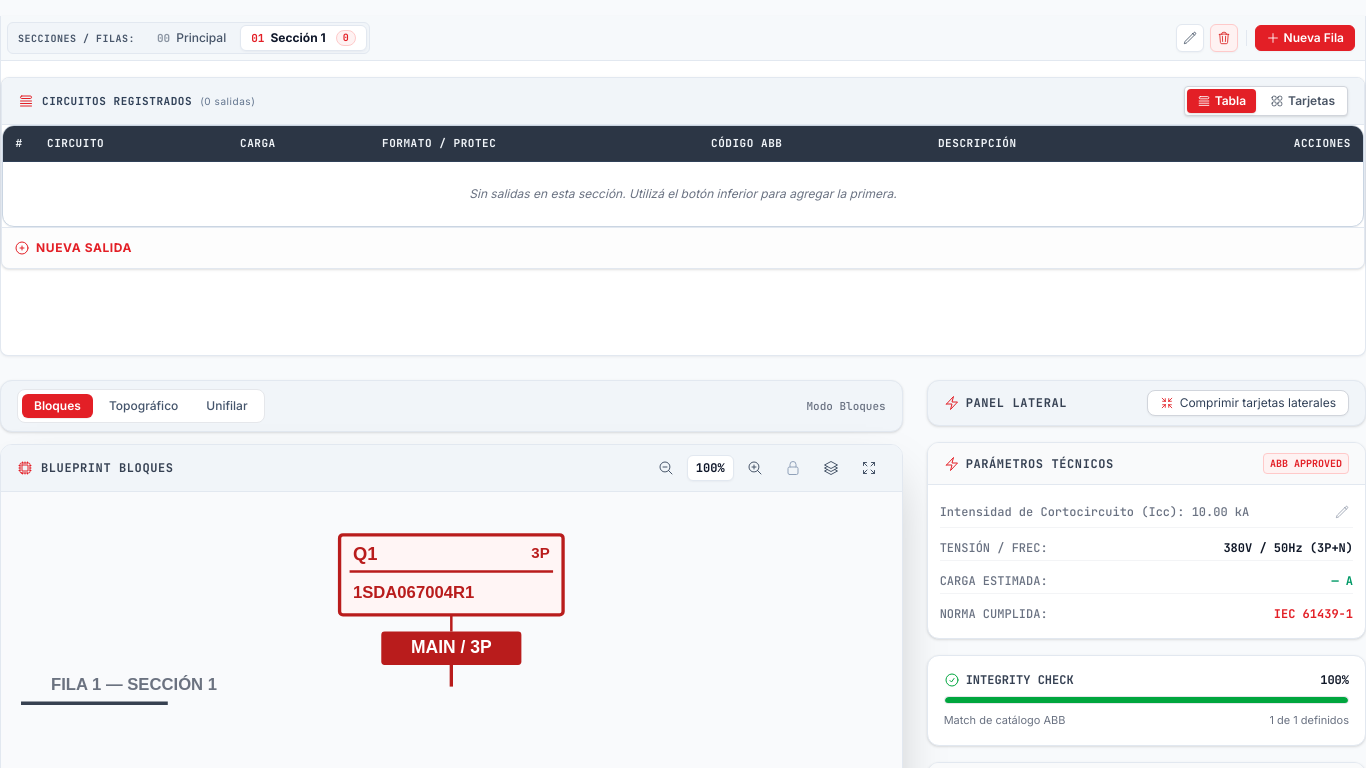
DetalleTablero › edits nivel de falla via modal and reports the change upward
This screenshot has width=1366, height=768.
Expected: the tab "01 Sección 1 0" is shown, [240,25,367,51]
Step 1. Click the button named "editar intensidad de cortocircuito" → [1342, 512], box [1331,501,1353,523]
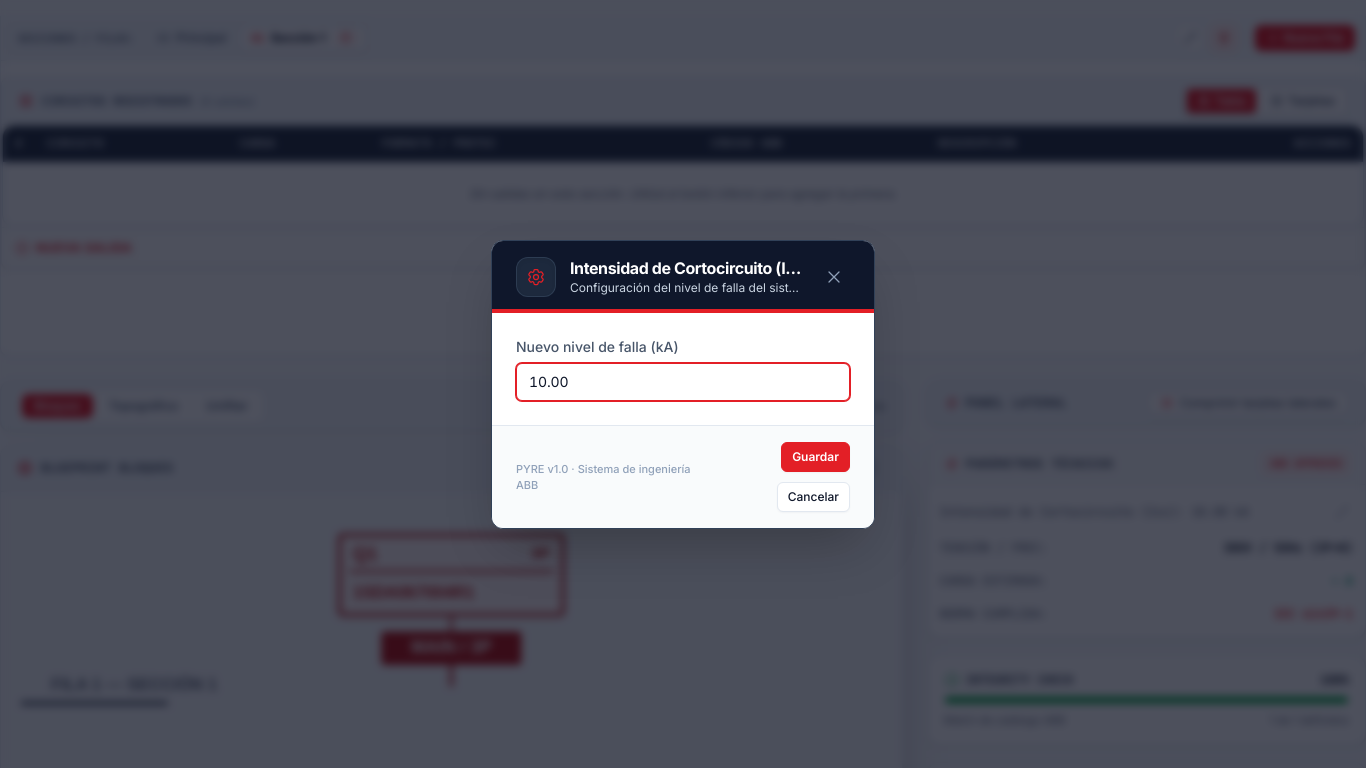
Result: the dialog is shown at [491,240,875,528]
Step 2. Replace the text in the field labelled "Nuevo nivel de falla (kA)" with "16" → [683, 382], box [516,362,850,400]
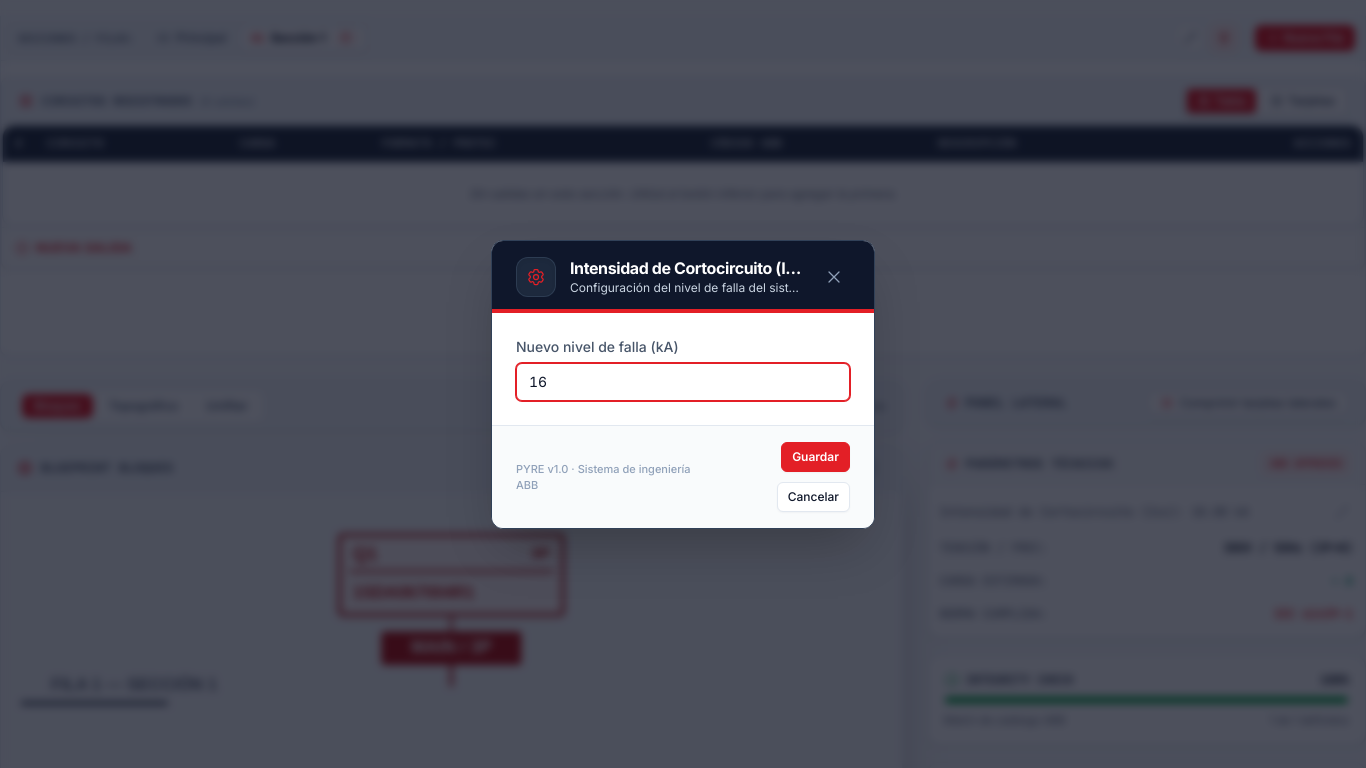
Step 3. Click the button "Guardar" → [816, 456], box [781,442,850,472]
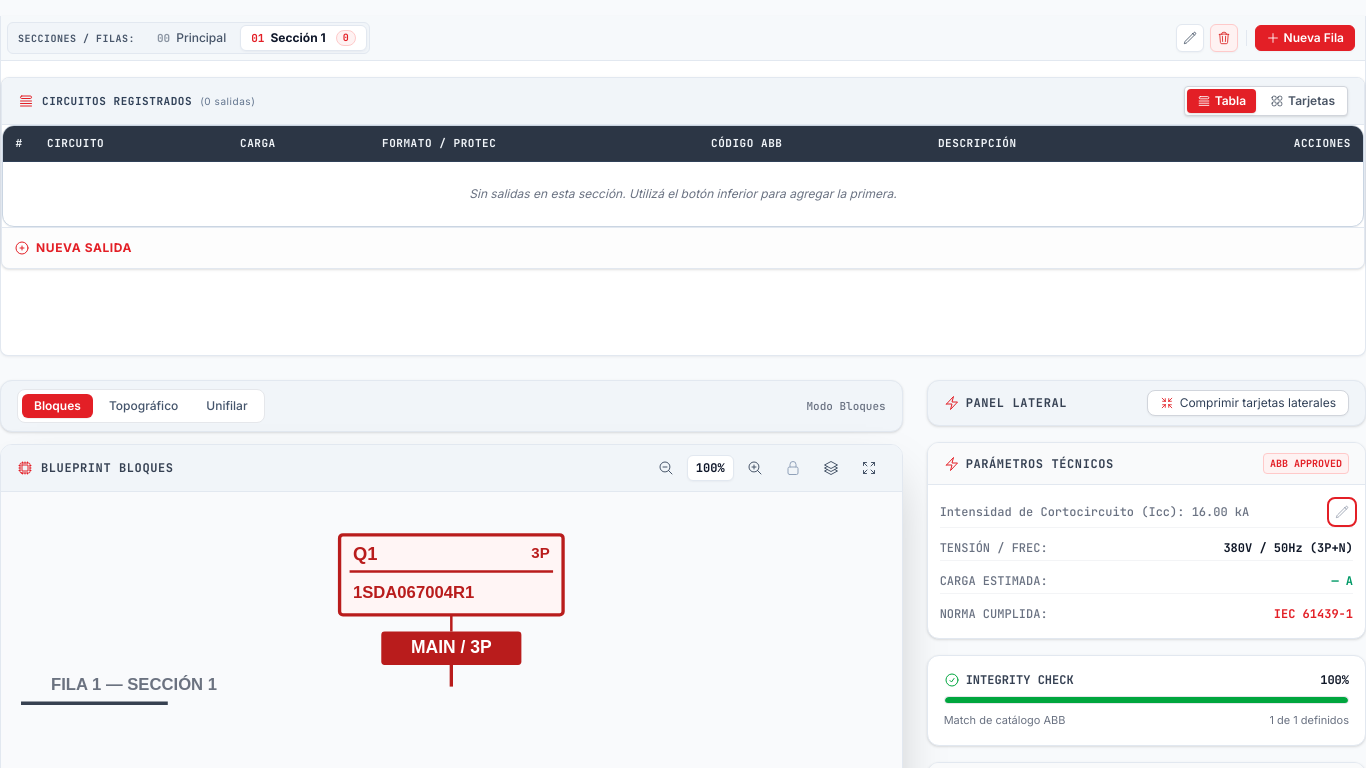
Result: the text "Intensidad de Cortocircuito (Icc): 16.00 kA" is shown at [940,504,1249,520]
Result: the dialog is gone
